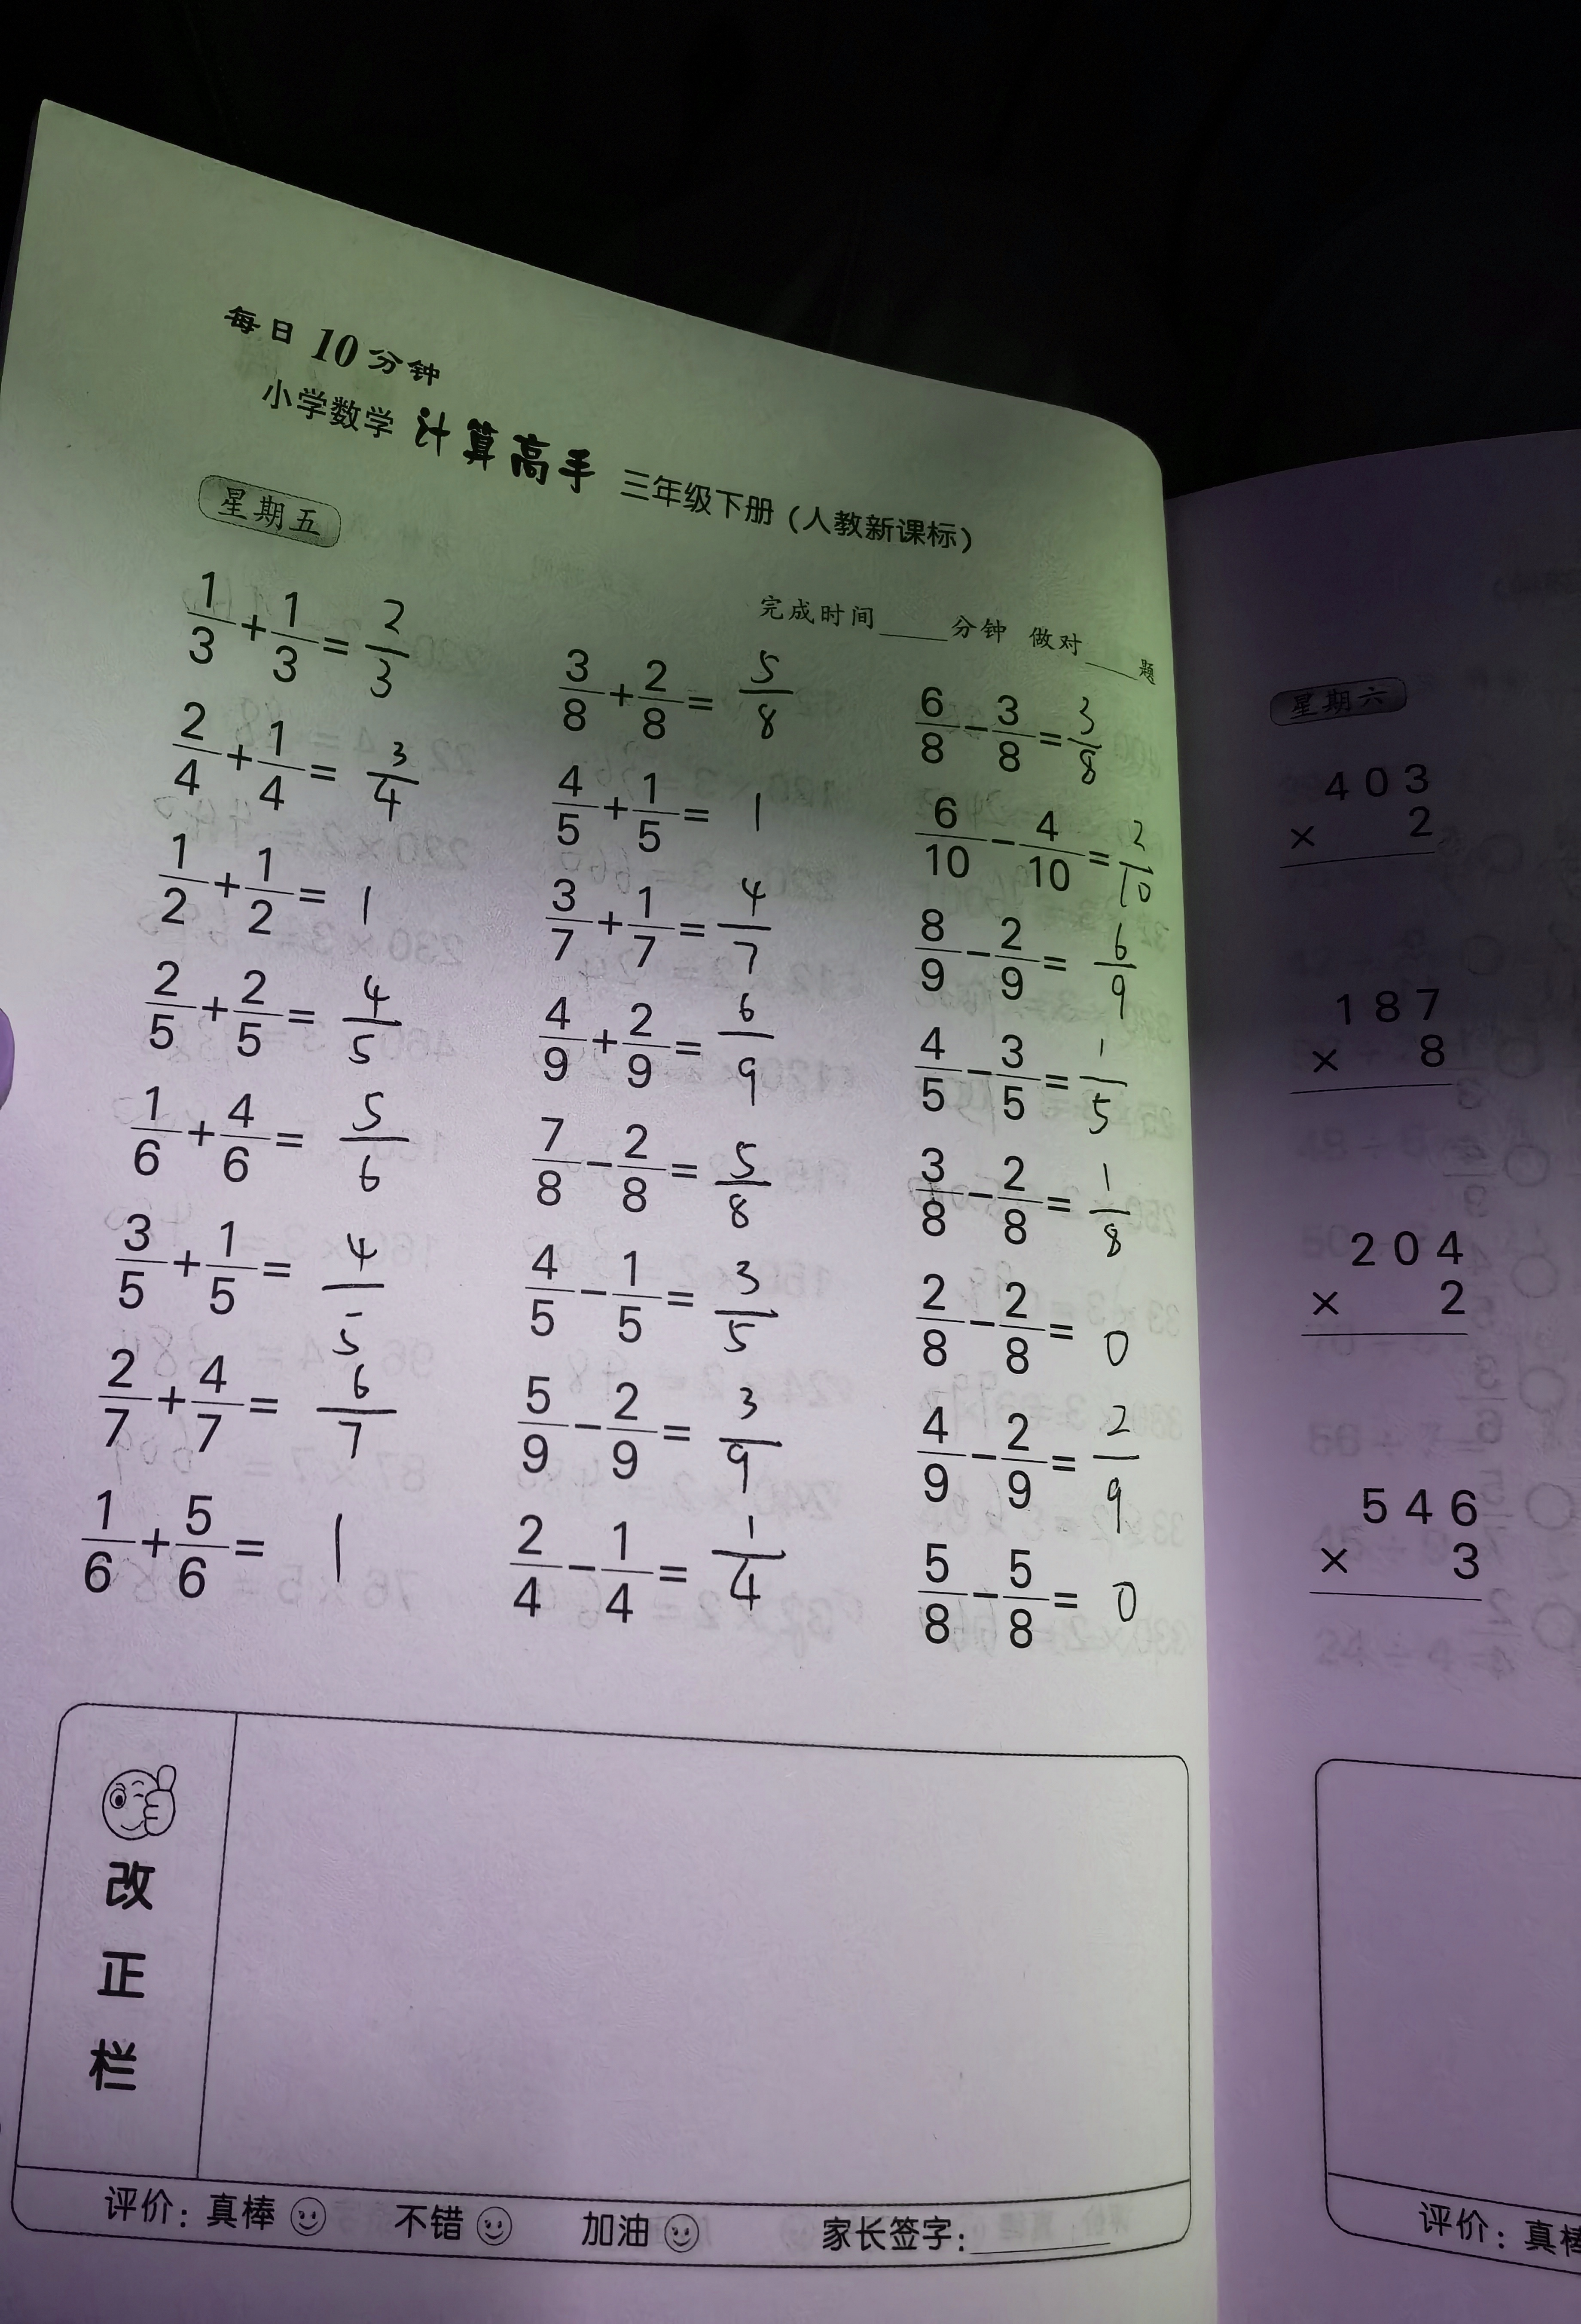equation: (152, 510, 434, 693), (92, 1203, 425, 1359), (478, 1362, 798, 1503), (480, 1516, 810, 1645), (95, 1348, 402, 1486), (76, 1484, 393, 1616), (161, 693, 439, 843), (125, 962, 459, 1085), (116, 1087, 462, 1203), (508, 1235, 796, 1369), (139, 828, 418, 960), (873, 1532, 1165, 1655), (889, 1398, 1147, 1537), (543, 992, 826, 1117), (543, 630, 813, 746), (910, 799, 1177, 916), (543, 872, 829, 979), (900, 914, 1175, 1023), (909, 665, 1138, 794), (528, 1108, 776, 1226), (902, 1029, 1152, 1136), (896, 1154, 1142, 1260), (893, 1274, 1143, 1375), (549, 761, 810, 856)
